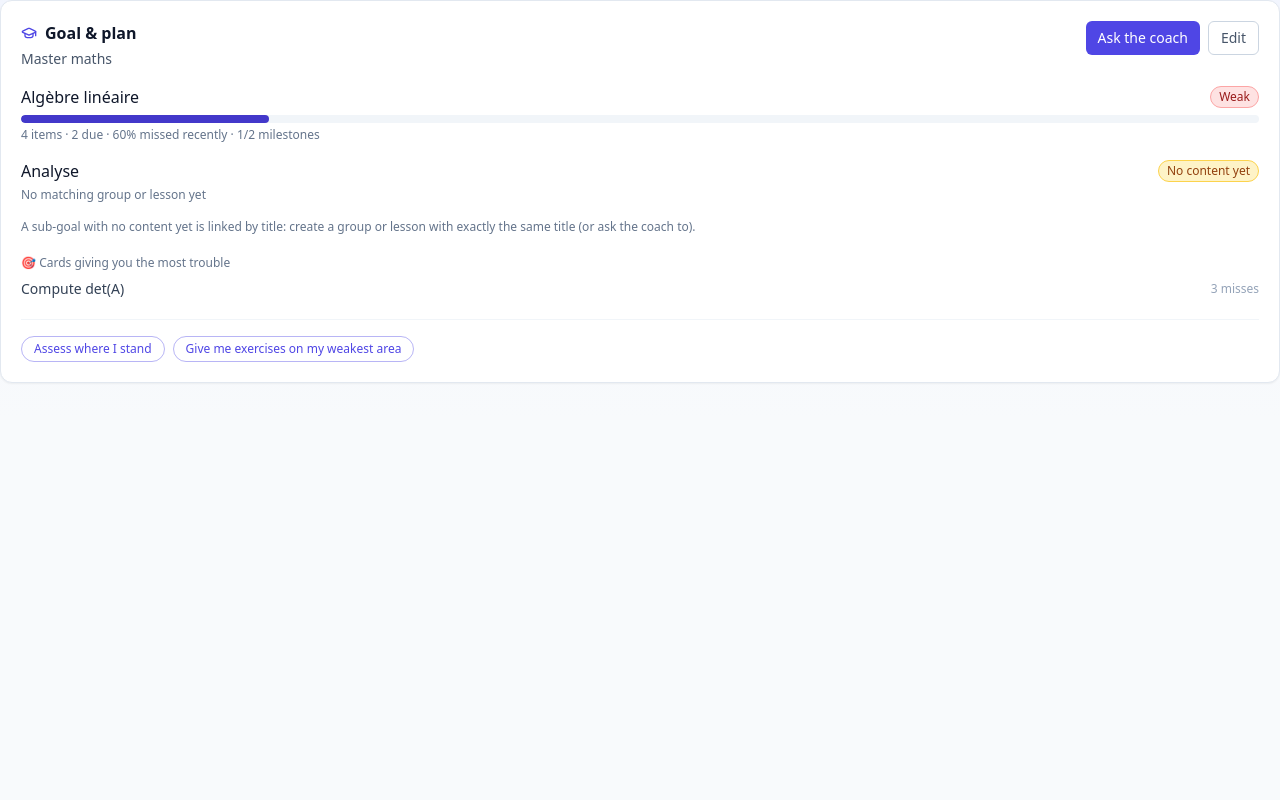
Test case: PlanSection › saves the goal and plan text through the editor
The image size is (1280, 800).
Click the button "Edit" at [1233, 38], box [1208,21,1259,55]
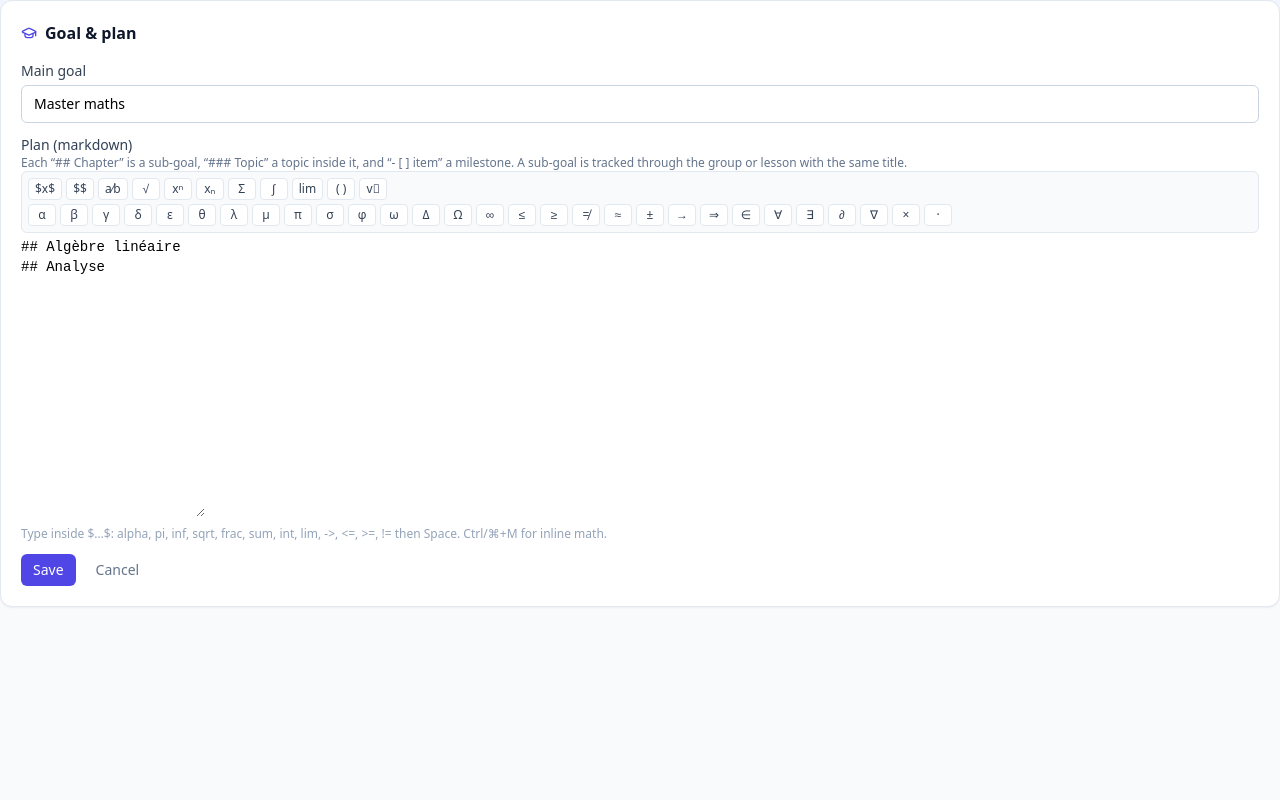
Replace the text in the field labelled "Main goal" with "New goal" at [640, 104], box [21,85,1259,123]
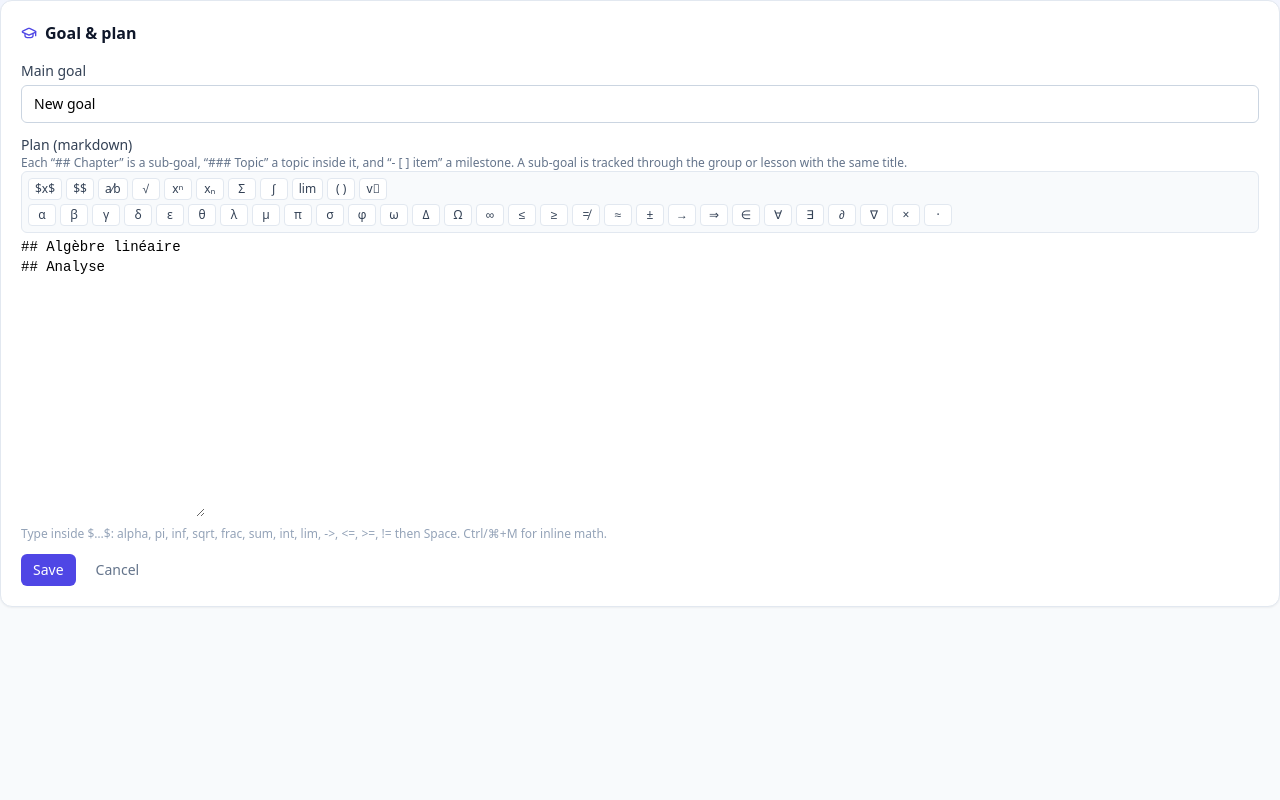
Replace the text in the text box with placeholder "# My plan" with "## Probabilités" at [113, 377], box [21,237,205,517]
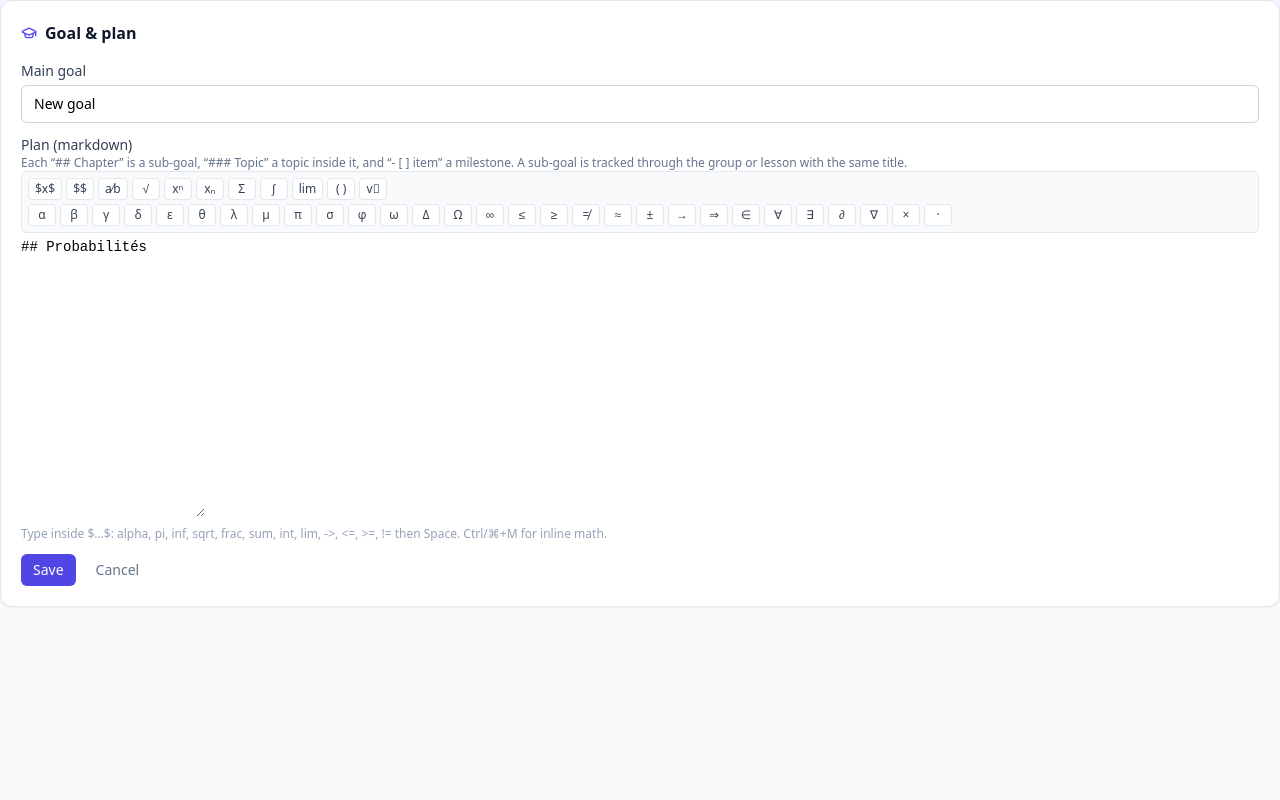
Click the button "Save" at [48, 570], box [21,554,76,586]
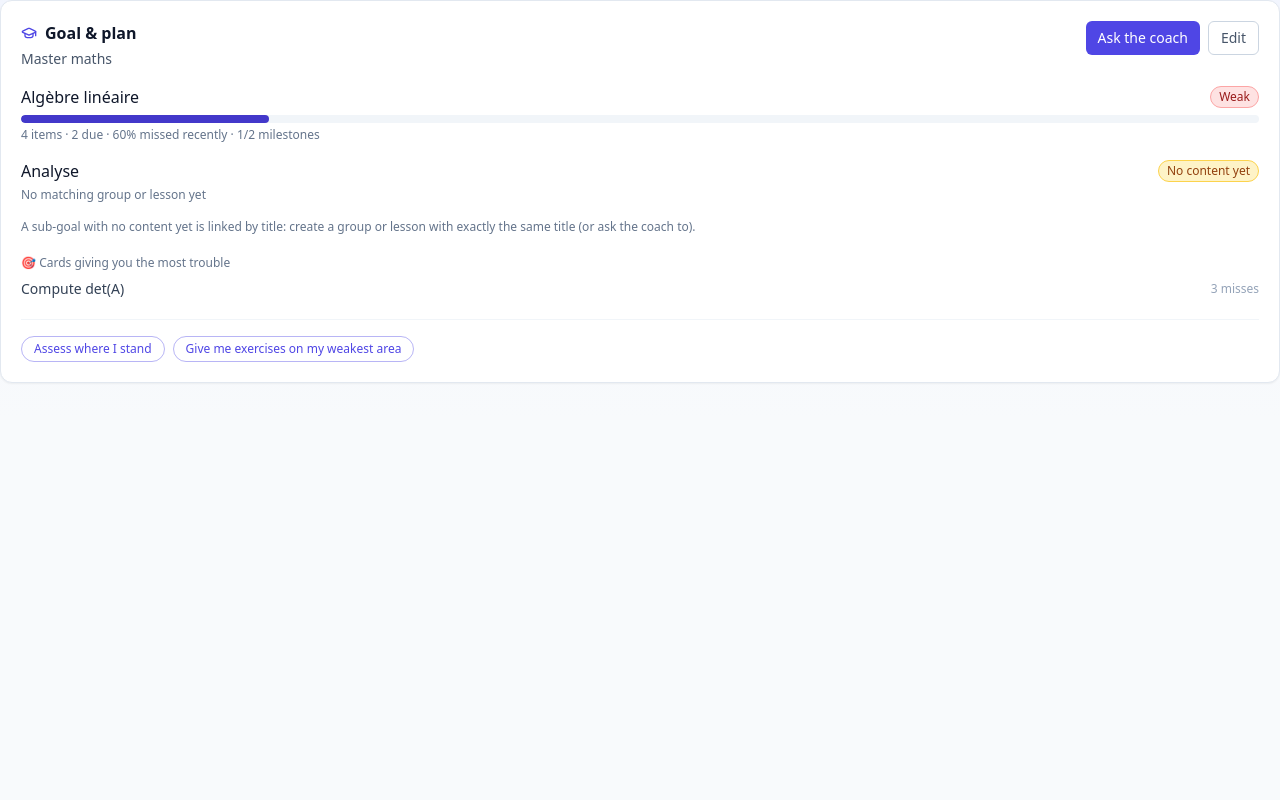
Result: the text labelled "Main goal" is gone
